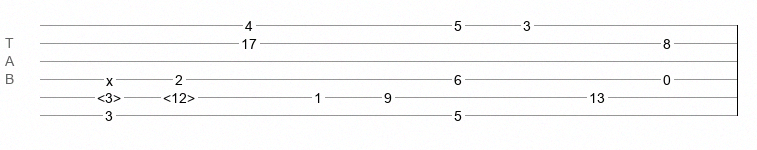0: (663, 72, 671, 82)
1: (314, 90, 322, 100)
13: (589, 90, 605, 100)
17: (241, 36, 257, 46)
2: (175, 72, 183, 82)
3: (105, 108, 113, 118), (523, 18, 531, 28)
4: (245, 18, 253, 28)
5: (454, 18, 462, 28), (454, 108, 462, 118)
6: (454, 72, 462, 82)
8: (663, 36, 671, 46)
9: (384, 90, 392, 100)
harmonic: (163, 90, 195, 100), (97, 90, 121, 100)
x: (106, 73, 113, 81)
